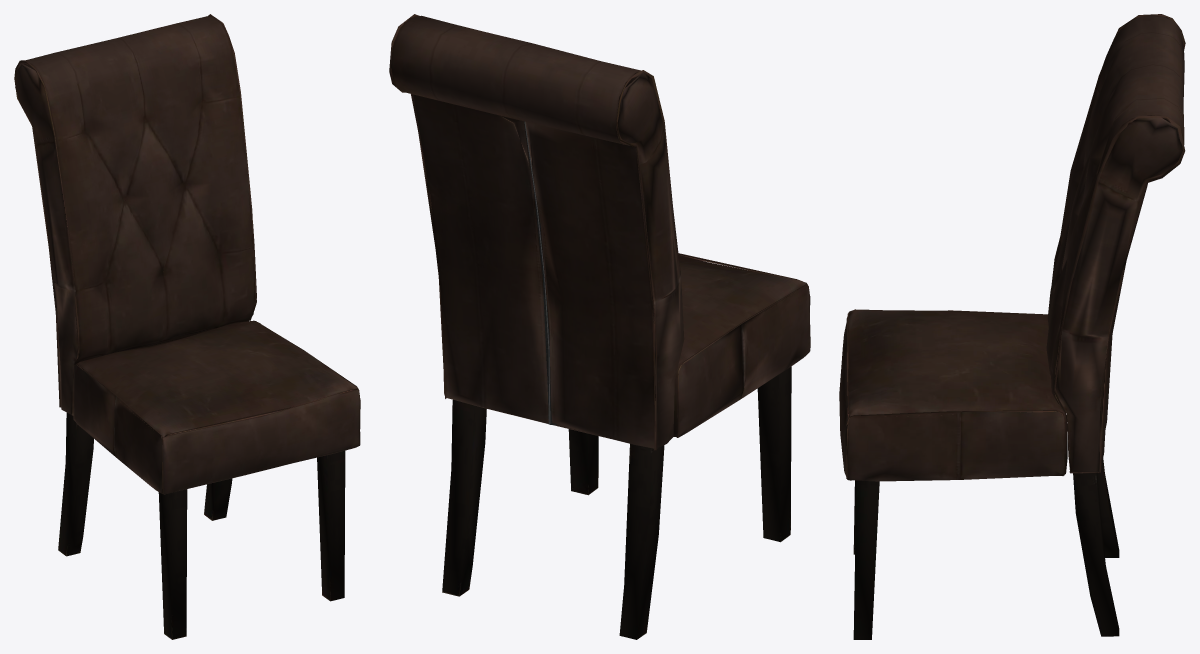
The picture shows the model from 3 angles, left to right: view 1: azimuth 30°, elevation 25°; view 2: azimuth 150°, elevation 25°; view 3: azimuth 270°, elevation 25°; orthographic projection. The views are drawn at different scales.
Parts seen in each view (by area): view 1: dining_chair_02; view 2: dining_chair_02; view 3: dining_chair_02.
Part boxes in pixels (x1,y1,x2,y2): dining_chair_02: (14,14,360,639); dining_chair_02: (389,14,810,639); dining_chair_02: (839,14,1185,639).
Size of the model in its own units: 0.4314 by 0.9714 by 0.5764.
Materials: 1 (1 with a texture image).
